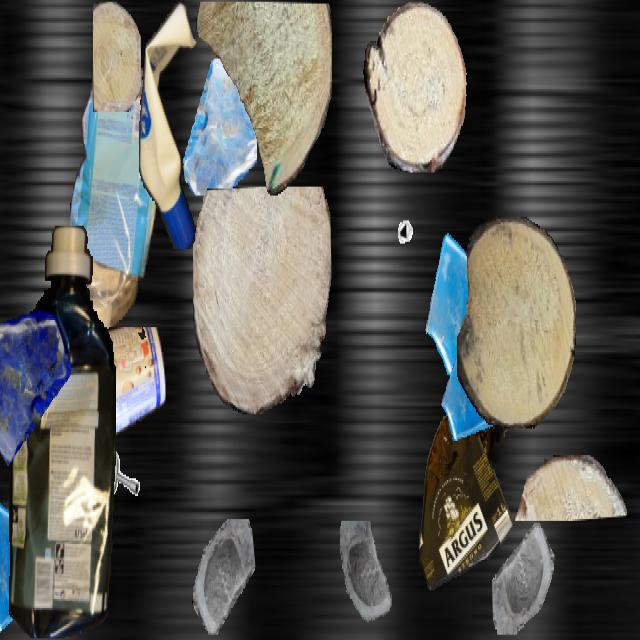glass: (423, 220, 515, 384), (0, 306, 71, 473), (180, 58, 256, 194), (0, 478, 59, 638), (335, 521, 401, 638), (191, 519, 255, 633), (441, 338, 505, 452), (492, 523, 554, 633)
metal: (98, 448, 146, 533), (395, 190, 433, 258)
plastic: (8, 226, 116, 638), (70, 62, 156, 372), (419, 398, 513, 590), (139, 2, 203, 247), (66, 327, 166, 452)
wood: (193, 187, 331, 414), (196, 2, 332, 194), (457, 217, 575, 427), (363, 2, 467, 172), (513, 455, 627, 519), (93, 2, 141, 112)
